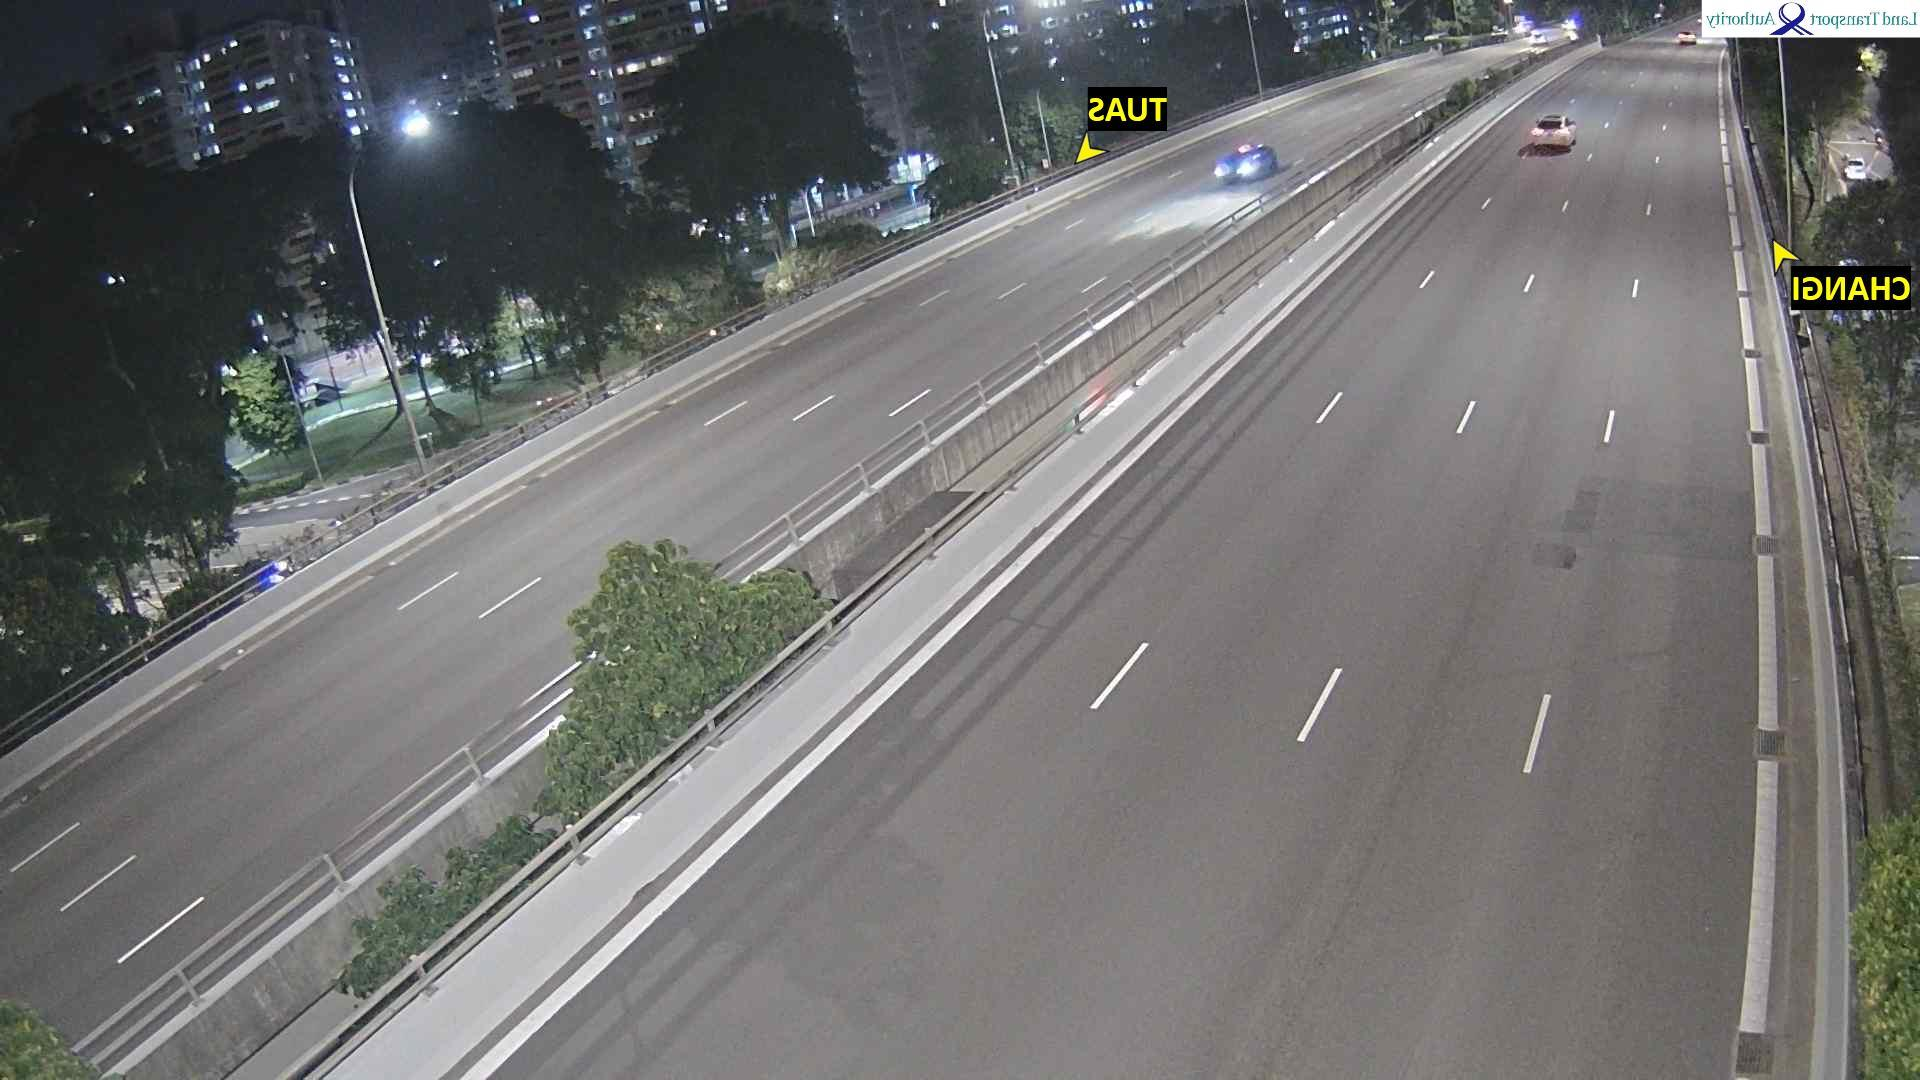incoming: (1213, 145, 1265, 186)
